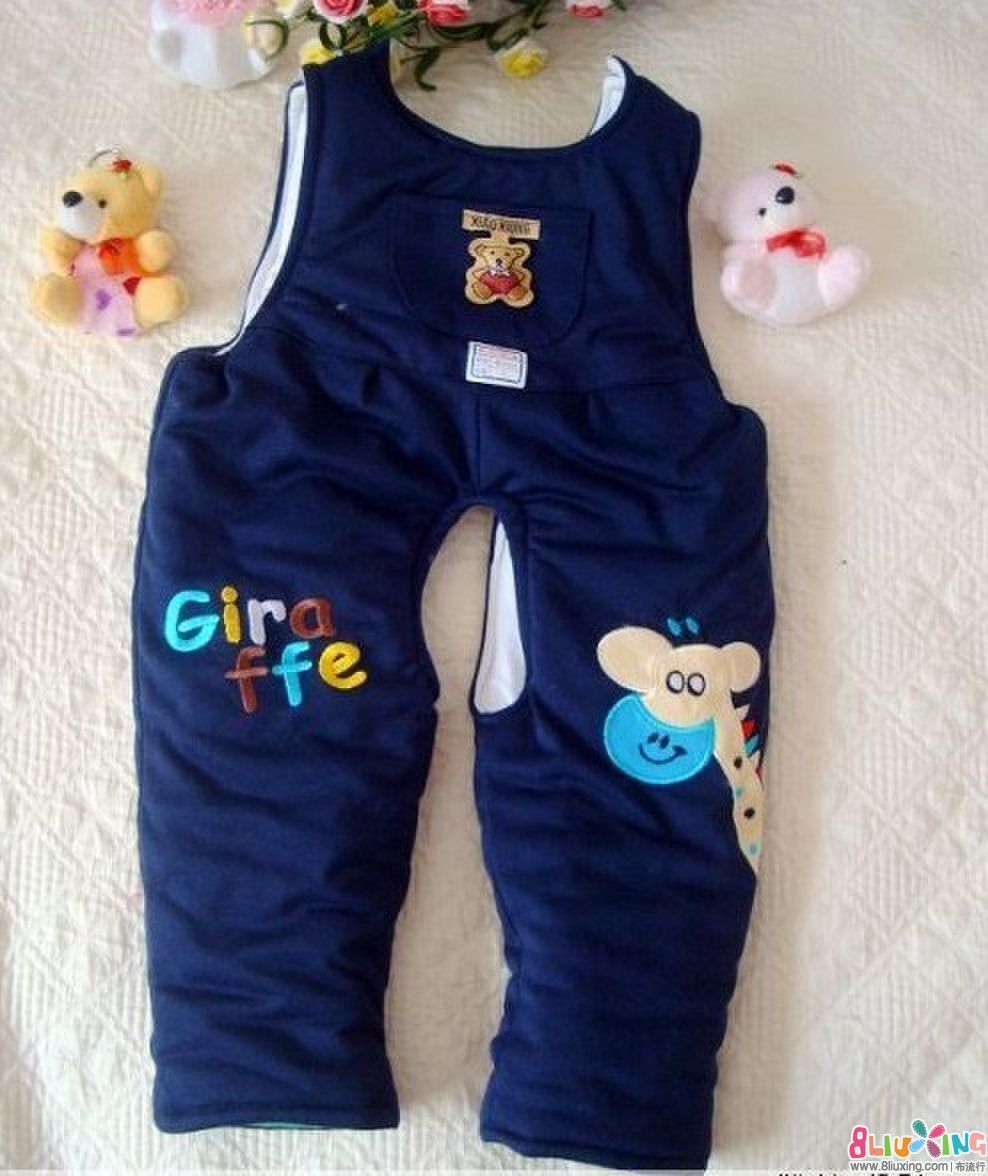flexible: (133, 50, 781, 1174)
